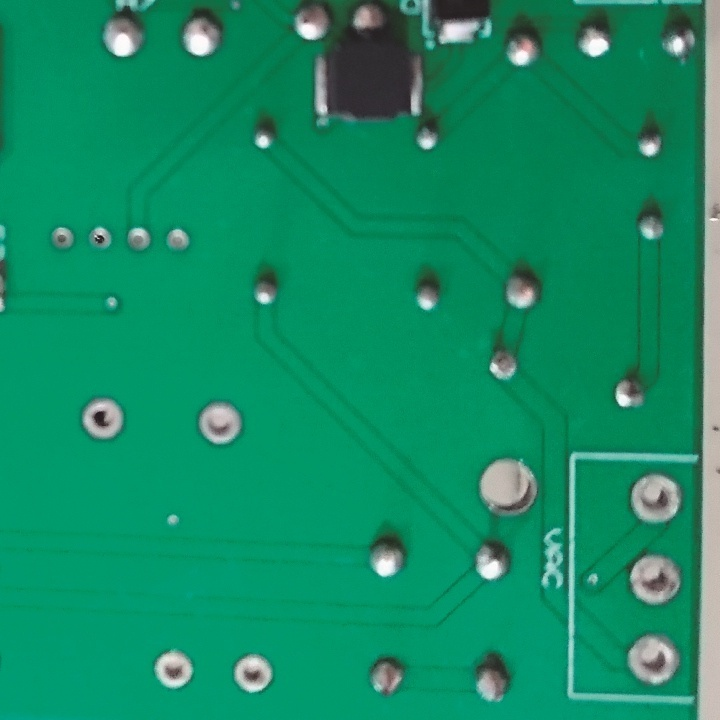F: (625, 626, 681, 692), (627, 468, 686, 526), (627, 549, 683, 608), (193, 392, 245, 448), (78, 395, 127, 446), (231, 649, 276, 700), (148, 647, 196, 692), (45, 222, 79, 259), (161, 223, 193, 258), (121, 222, 154, 254), (86, 220, 113, 255)
